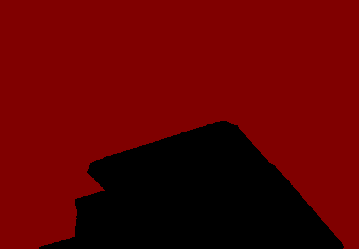Sky: (1, 1, 358, 248)
